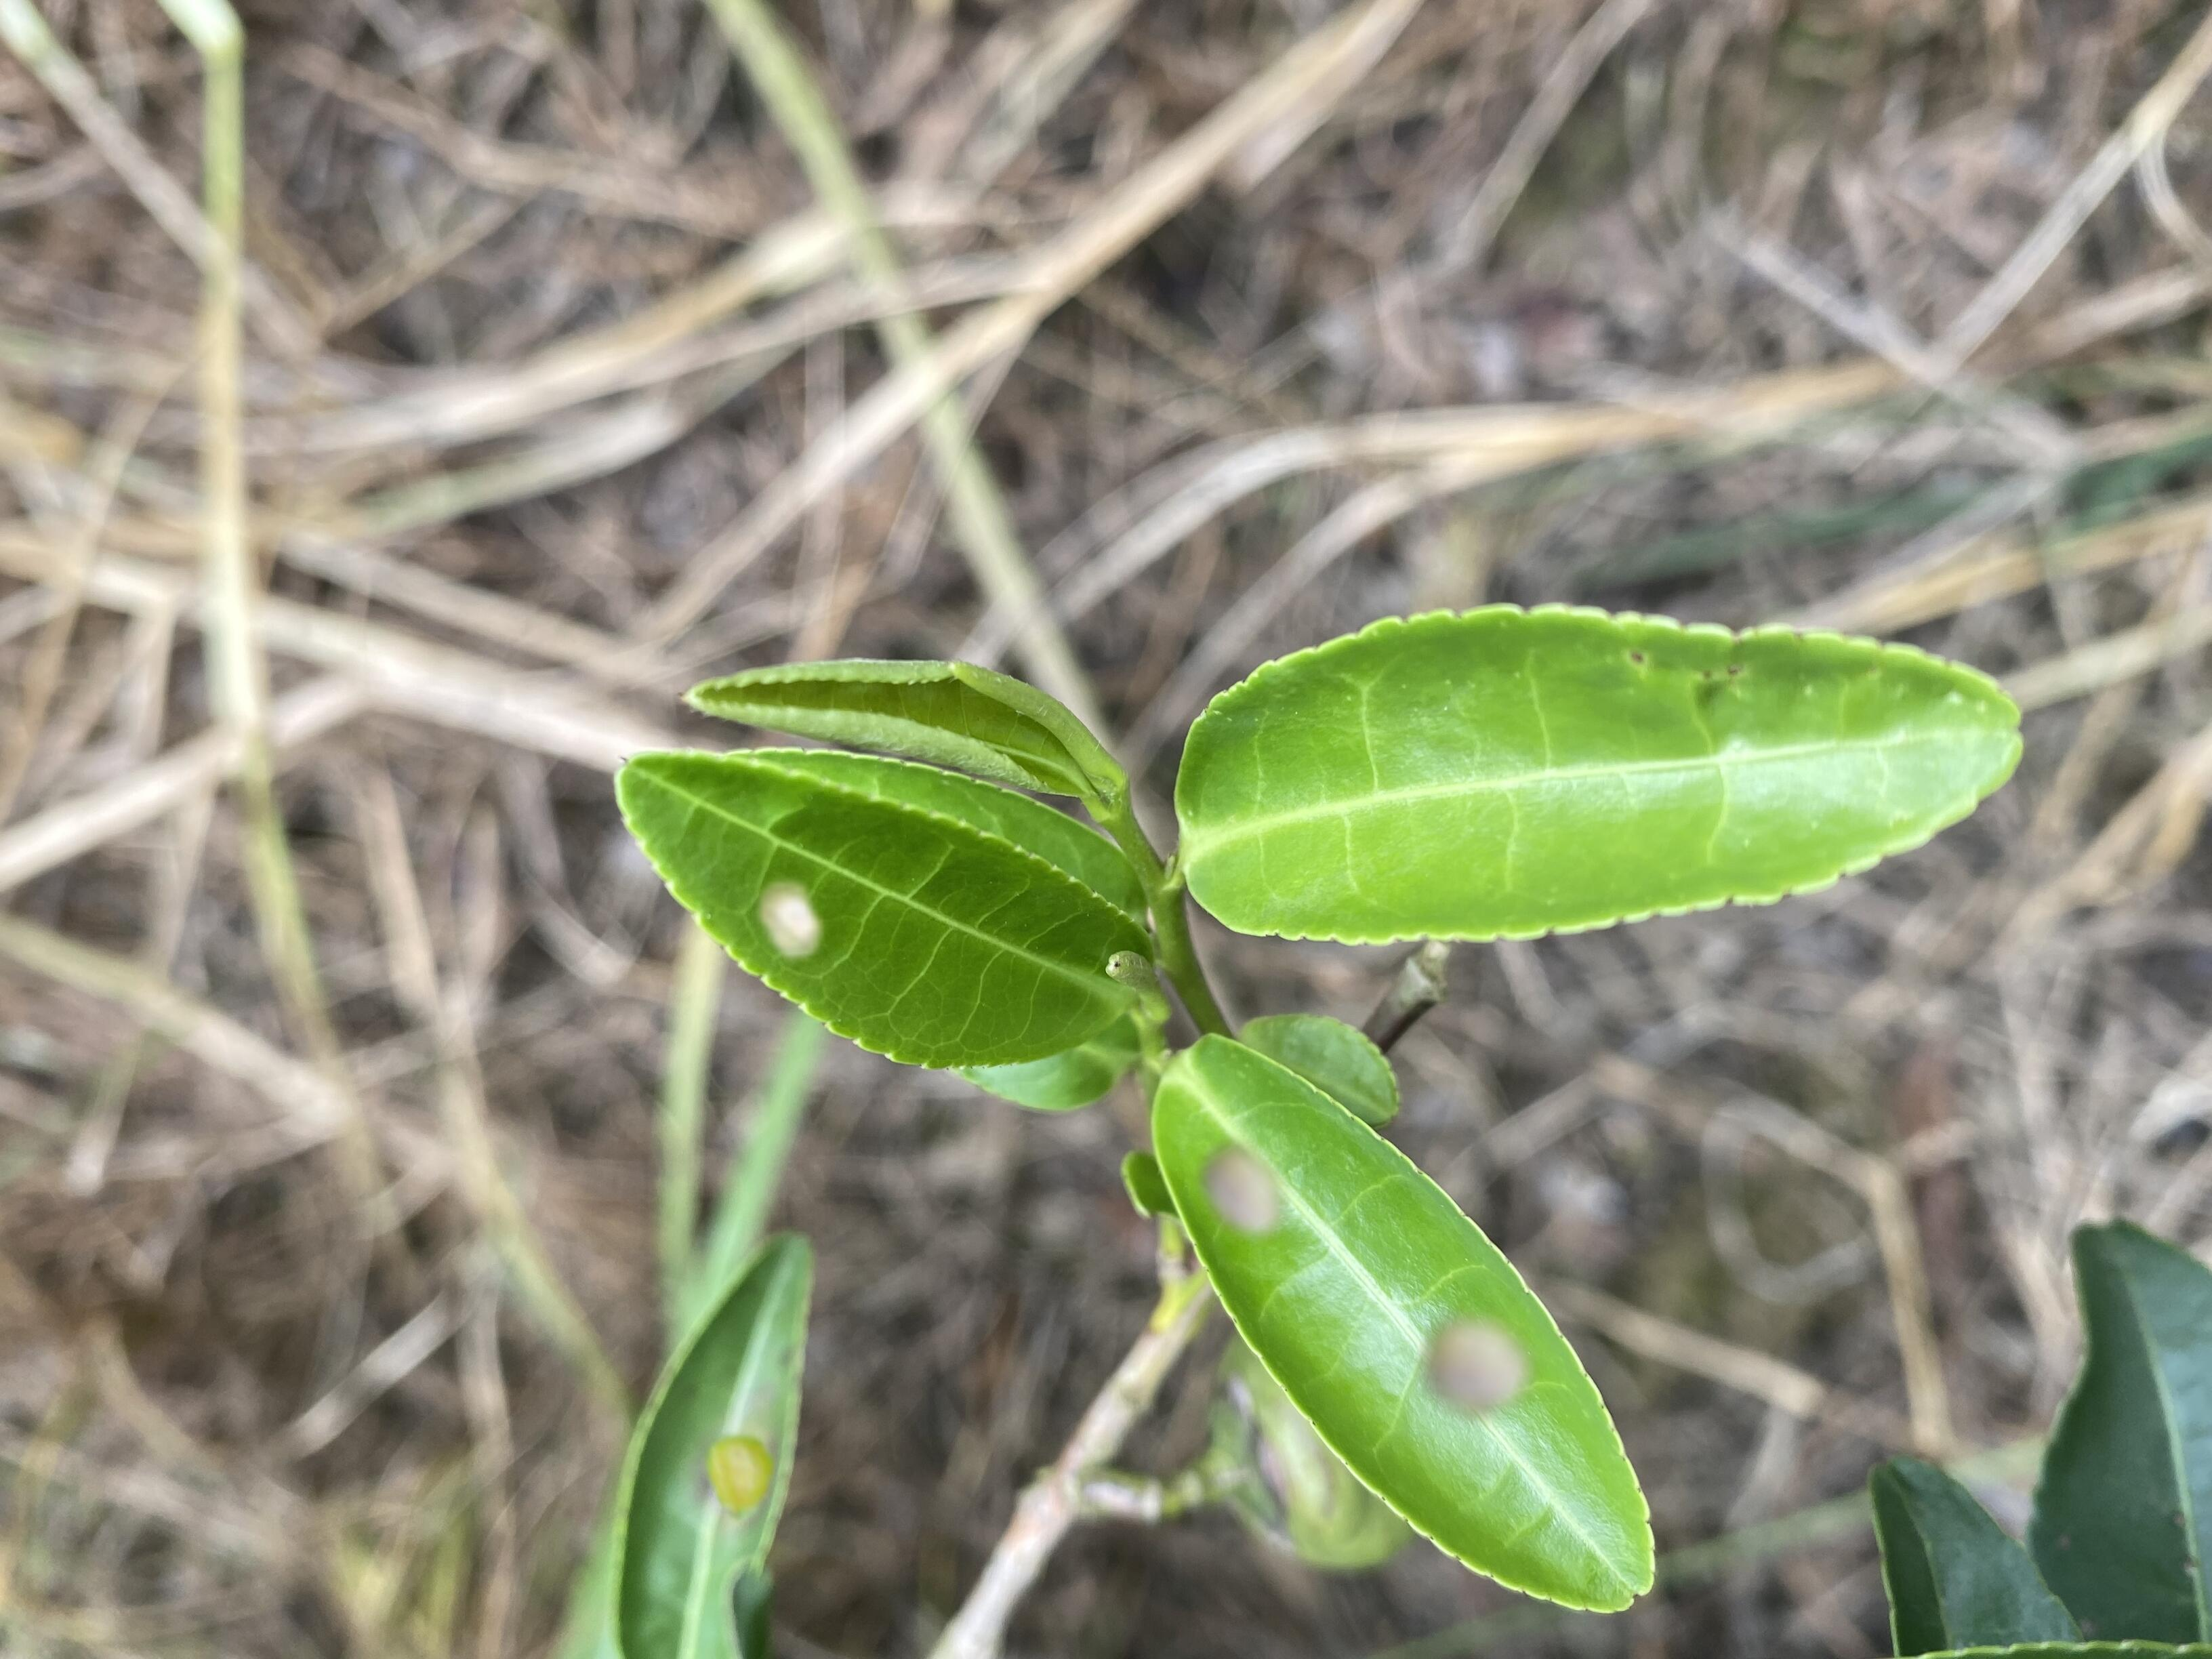chabing_high: (1153, 1028, 1655, 1614)
chabing_low: (617, 744, 1139, 1065), (611, 1230, 815, 1656)
healthy: (1170, 601, 2045, 945), (681, 657, 1129, 805)
